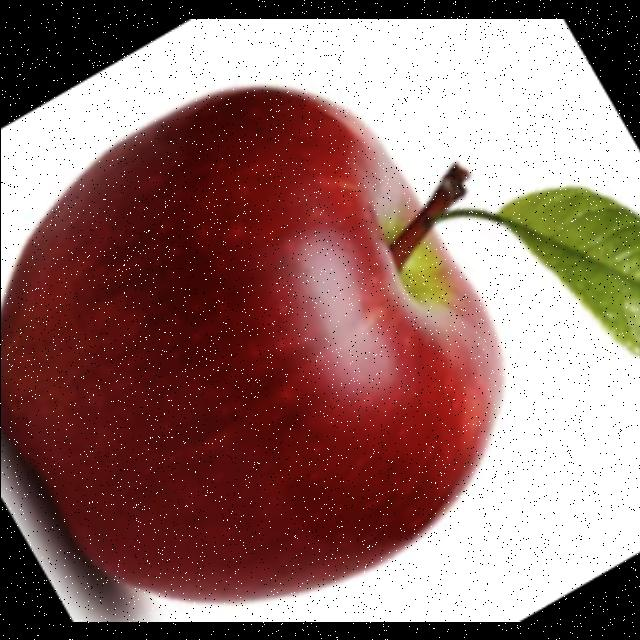Apel Segar: (0, 42, 556, 622)
